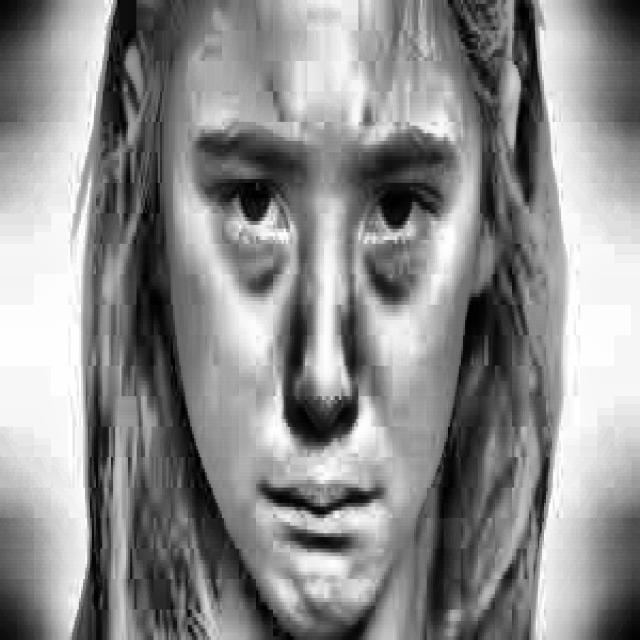sad: (96, 2, 517, 638)
